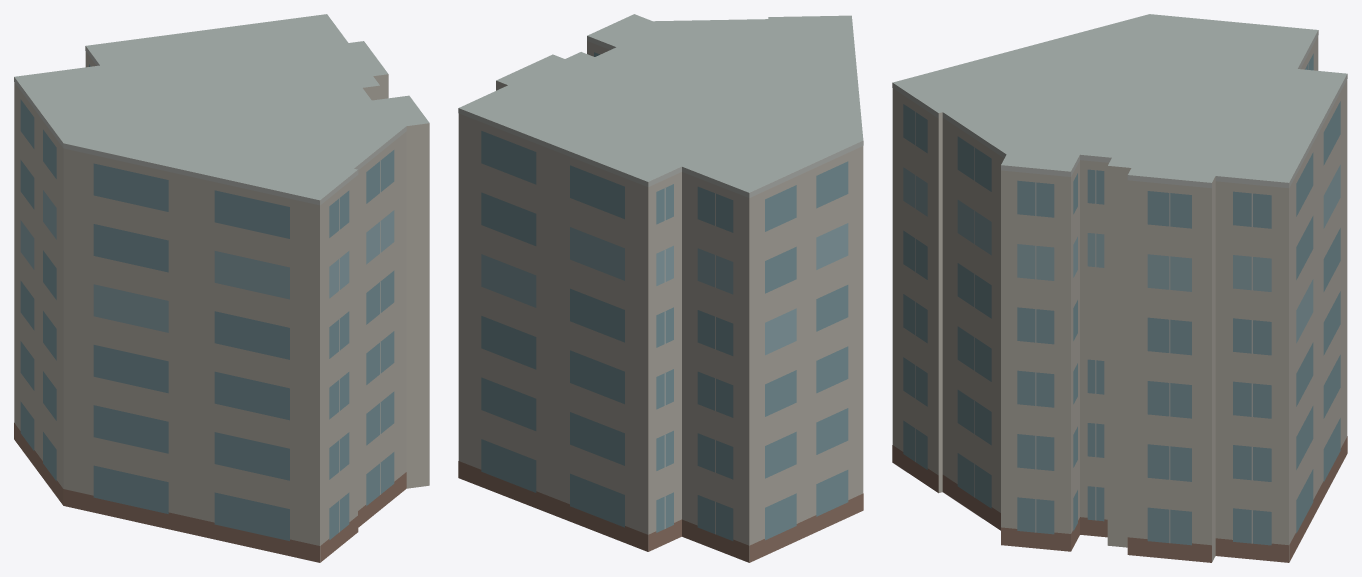
Rendered from survey-upis-32925920.glb.
3 views of the same model, side by side, from view 1: azimuth 30°, elevation 25°; view 2: azimuth 150°, elevation 25°; view 3: azimuth 270°, elevation 25° (orthographic). The views are drawn at different scales.
Visible parts, largest first — view 1: survey-upis-32925920.tmp; view 2: survey-upis-32925920.tmp; view 3: survey-upis-32925920.tmp.
Boxes of the visible parts, <box> form: survey-upis-32925920.tmp: <box>14,14,429,562</box>; survey-upis-32925920.tmp: <box>458,14,863,562</box>; survey-upis-32925920.tmp: <box>892,14,1347,562</box>.
Size of the model in its own units: 16.5 by 17.3 by 18.78.
